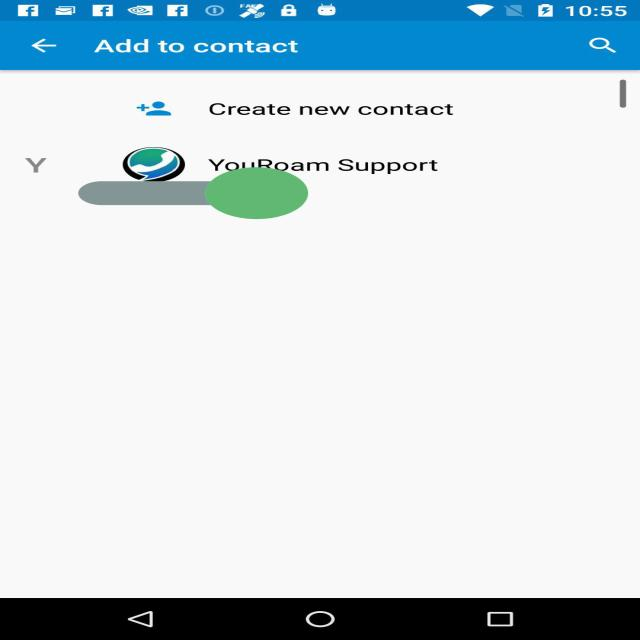social proof: (78, 135, 308, 251)
